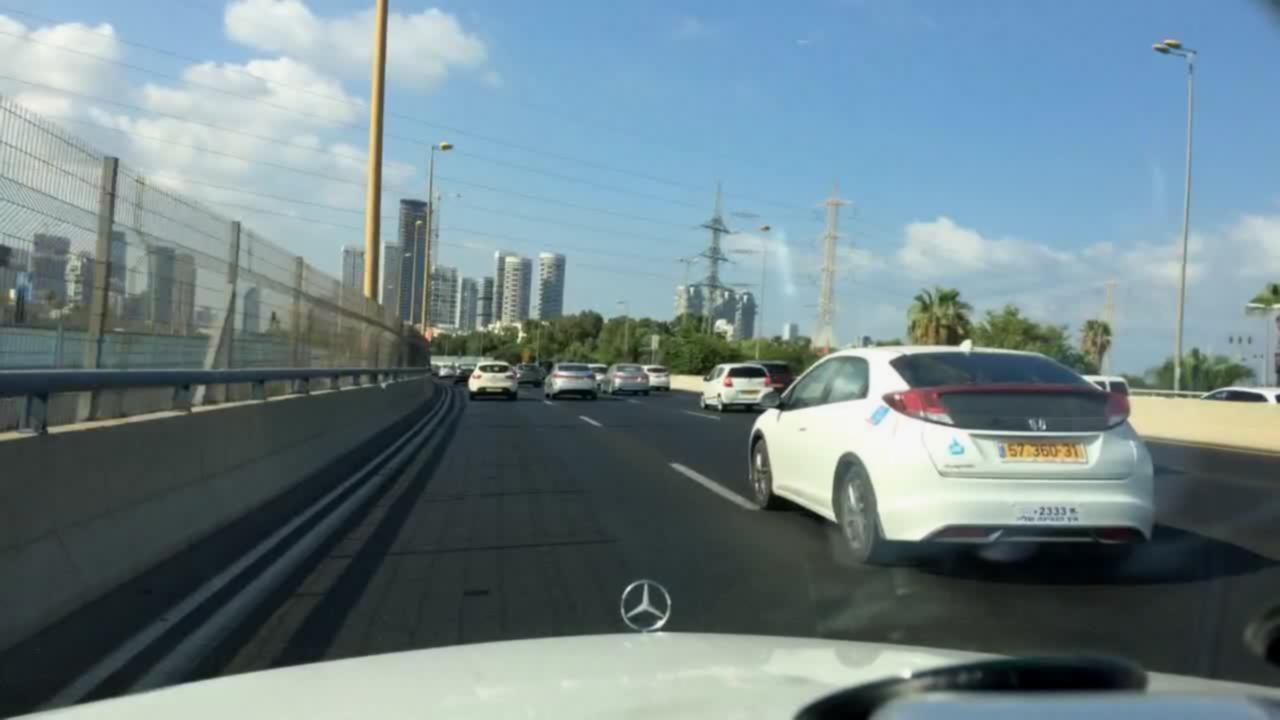Honda: (1023, 412, 1057, 437)
Mercedes: (607, 558, 702, 641)
